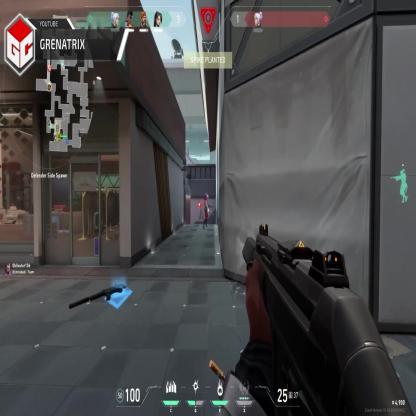enemy: (202, 191, 211, 228)
enemy_head: (206, 193, 209, 200)
